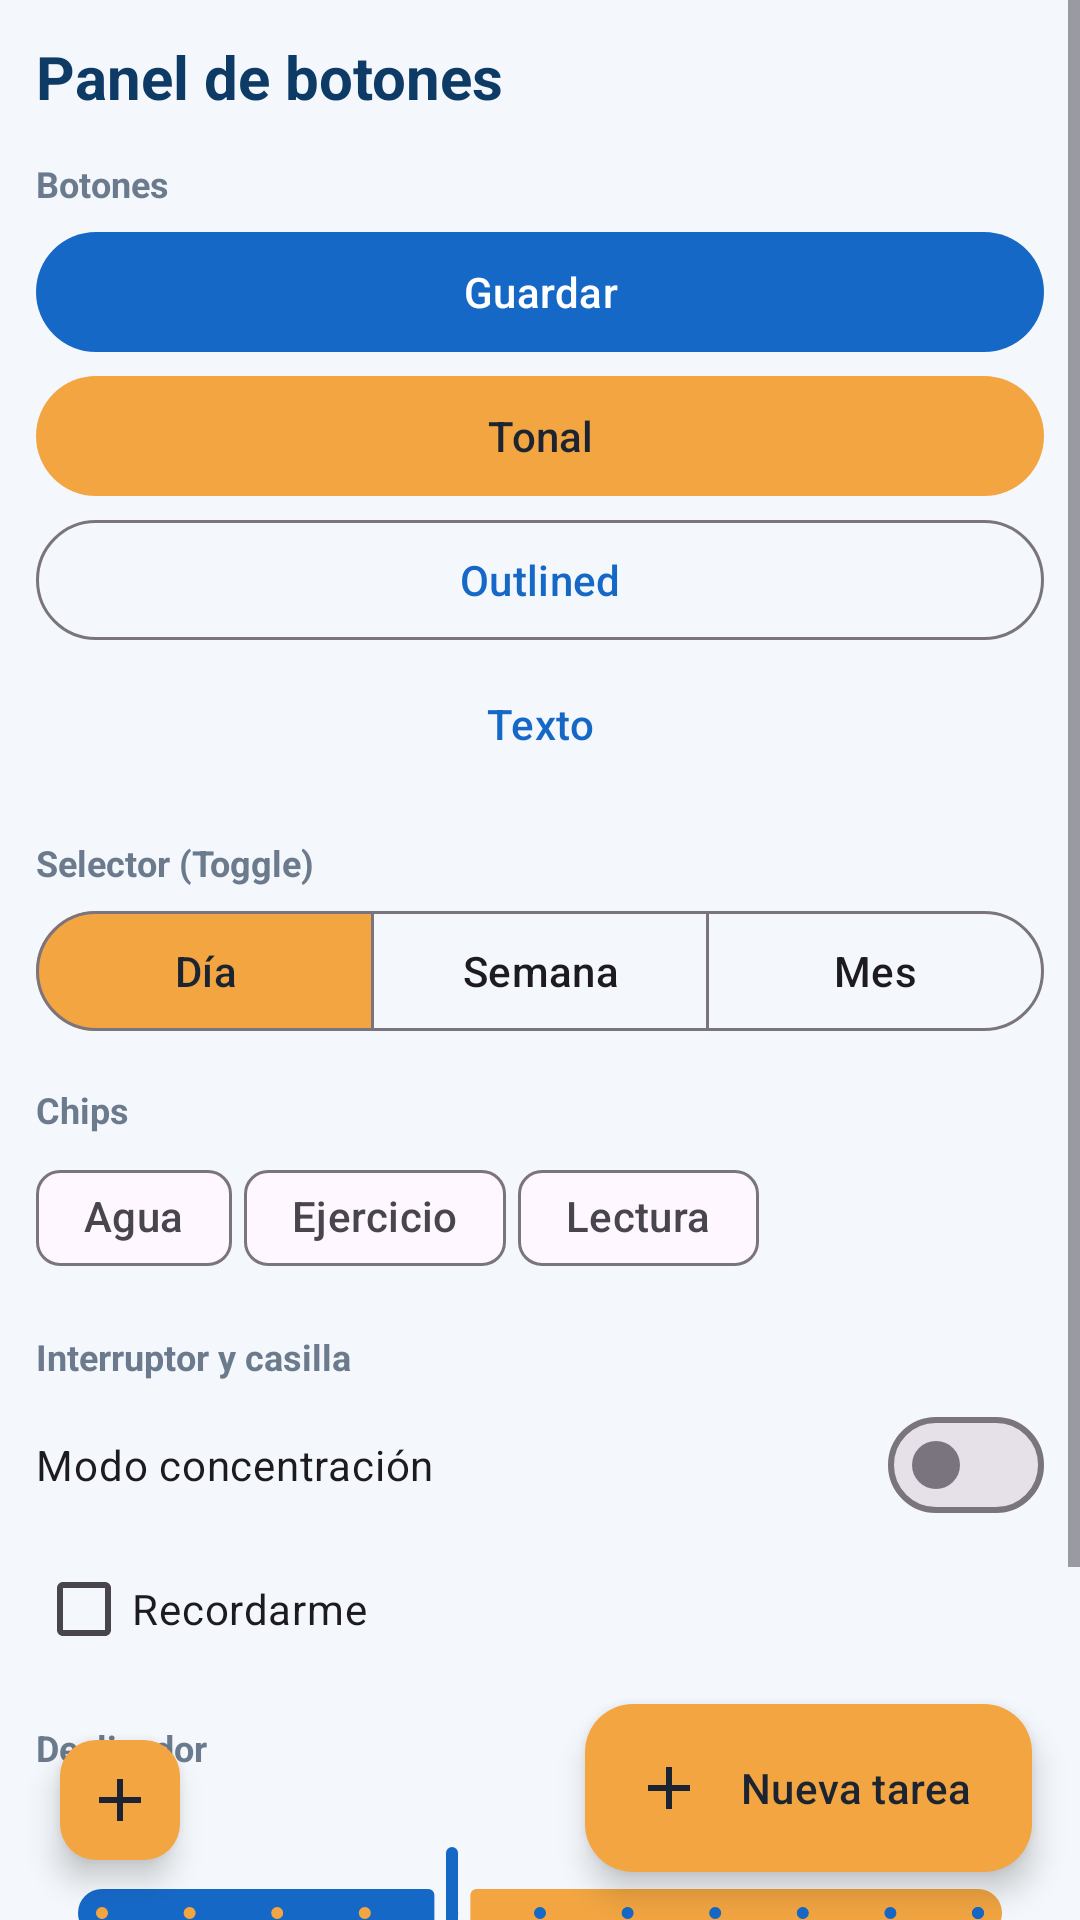

Icons on this 1080 x 1920 Android screen, each with its box as detection(x1, y1, x2, y2):
Agregar: detection(57, 1735, 192, 1872)
